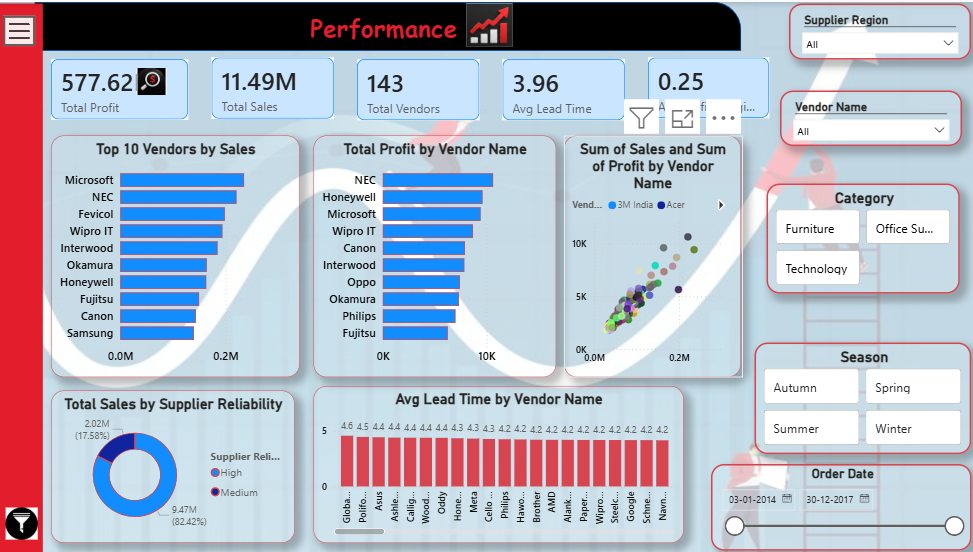

Layout of this report page (visuals, bound fields, positions):
{"tool":"powerbi","page":{"name":"Performance","canvas":[1280,720],"ordinal":1},"visuals":[{"type":"shape","title":"Flyoutshape","box":[2,2,230.7,718],"z":0,"group":"g1"},{"type":"clusteredBarChart","title":"Top 10 Vendors by Sales","fields":{"Category":["vendor_superstore.Vendor Name"],"Y":["vendor_superstore.Total Sales"]},"box":[66.7,174.5,325.6,315.8],"z":0},{"type":"clusteredBarChart","fields":{"Category":["vendor_superstore.Vendor Name"],"Y":["vendor_superstore.Total Profit"]},"box":[409.7,174.9,317.4,315.7],"z":1000},{"type":"slicer","title":"Supplier Region","fields":{"Values":["vendor_superstore.Supplier Region"]},"box":[1031.8,1.9,238.1,73],"z":2000},{"type":"actionButton","title":"Analysis","box":[63.5,290.2,153.8,58.3],"z":2000,"group":"g1"},{"type":"actionButton","title":"Overview","box":[59.5,77.7,168.4,55.1],"z":2500,"group":"g1"},{"type":"actionButton","title":"Vendor Performance","box":[53.4,163.5,176.5,74.5],"z":2750,"group":"g1"},{"type":"actionButton","title":"Closebutton","box":[64,16,54,46],"z":3000,"group":"g1"},{"type":"advancedSlicerVisual","fields":{"Values":["vendor_superstore.Season"]},"box":[986.5,445,283.5,146],"z":3000},{"type":"shape","box":[46,0,924,64],"z":4000},{"type":"cardVisual","fields":{"Data":["vendor_superstore.Total Profit"]},"box":[66.4,72.9,181.4,82.6],"z":4500},{"type":"image","box":[200,90.2,43.1,39.2],"z":4750},{"type":"actionButton","title":"Vendor Details","box":[58.7,380.9,174.9,61.5],"z":5000,"group":"g1"},{"type":"slicer","title":"Order Date","fields":{"Values":["vendor_superstore.Order Date"]},"box":[929.3,603.4,340.8,113.6],"z":5000},{"type":"image","box":[161.9,299.6,40.5,35.6],"z":5250,"group":"g1"},{"type":"image","box":[176.1,395.1,43.7,35.6],"z":5312,"group":"g1"},{"type":"image","box":[178.1,181.4,40.5,35.6],"z":5375,"group":"g1"},{"type":"image","box":[178.1,85.8,40.5,35.6],"z":5500,"group":"g1"},{"type":"donutChart","fields":{"Category":["vendor_superstore.Supplier Reliability"],"Y":["vendor_superstore.Total Sales"]},"box":[66.4,508.4,319,199.2],"z":6000},{"type":"group","id":"g1","title":"Sidebar","box":[2,2,231.5,718],"z":7000},{"type":"image","box":[609.9,2,60.8,56.9],"z":8000},{"type":"shape","box":[0,2,56,718],"z":9000},{"type":"actionButton","box":[4,18,42,40],"z":10000},{"type":"image","box":[0,660,56,42],"z":11000},{"type":"scatterChart","fields":{"X":["Sum(vendor_superstore.Sales)"],"Y":["Sum(vendor_superstore.Profit)"],"Series":["vendor_superstore.Vendor Name"]},"box":[738.4,174.9,231.5,315.7],"z":12000},{"type":"columnChart","fields":{"Y":["vendor_superstore.Avg Lead Time"],"Category":["vendor_superstore.Vendor Name"]},"box":[409.7,502,484.1,205.6],"z":13000},{"type":"advancedSlicerVisual","fields":{"Values":["vendor_superstore.Category"]},"box":[1002.3,238,252.6,144.1],"z":14000},{"type":"slicer","title":"Supplier Region","fields":{"Values":["vendor_superstore.Vendor Name"]},"box":[1020.1,115,238,72.9],"z":15000},{"type":"cardVisual","fields":{"Data":["vendor_superstore.Total Sales"]},"box":[258.2,75,176,79.3],"z":18000},{"type":"cardVisual","fields":{"Data":["vendor_superstore.Total Vendors"]},"box":[449.4,74.7,174.9,77.7],"z":19000},{"type":"cardVisual","fields":{"Data":["vendor_superstore.Avg Lead Time"]},"box":[639.6,73.2,174.9,81],"z":20000},{"type":"cardVisual","fields":{"Data":["vendor_superstore.Avg Profit Margin %"]},"box":[824.2,74.5,176.5,79.3],"z":21000},{"type":"image","box":[378.9,90.7,43.7,45.3],"z":22000},{"type":"image","box":[576.4,89.1,47,40.5],"z":23000},{"type":"image","box":[767.5,84.2,47,45.3],"z":24000},{"type":"image","box":[952.1,85.8,47,40.5],"z":25000}]}

Visuals, with their boxes in screenshot pixels (x1, y1, x2, y2), scaled from the page's 1280x720 canvas onto the 973x552 screenshot:
"Flyoutshape" shape: {"left": 2, "top": 2, "right": 177, "bottom": 551}
"Top 10 Vendors by Sales" clusteredBarChart: {"left": 51, "top": 134, "right": 298, "bottom": 376}
clusteredBarChart - vendor_superstore.Vendor Name x vendor_superstore.Total Profit: {"left": 311, "top": 134, "right": 553, "bottom": 376}
"Supplier Region" slicer: {"left": 784, "top": 1, "right": 965, "bottom": 57}
"Analysis" actionButton: {"left": 48, "top": 222, "right": 165, "bottom": 267}
"Overview" actionButton: {"left": 45, "top": 60, "right": 173, "bottom": 102}
"Vendor Performance" actionButton: {"left": 41, "top": 125, "right": 175, "bottom": 182}
"Closebutton" actionButton: {"left": 49, "top": 12, "right": 90, "bottom": 48}
advancedSlicerVisual - vendor_superstore.Season: {"left": 750, "top": 341, "right": 965, "bottom": 453}
shape: {"left": 35, "top": 0, "right": 737, "bottom": 49}
cardVisual - vendor_superstore.Total Profit: {"left": 50, "top": 56, "right": 188, "bottom": 119}
image: {"left": 152, "top": 69, "right": 185, "bottom": 99}
"Vendor Details" actionButton: {"left": 45, "top": 292, "right": 178, "bottom": 339}
"Order Date" slicer: {"left": 706, "top": 463, "right": 965, "bottom": 550}
image: {"left": 123, "top": 230, "right": 154, "bottom": 257}
image: {"left": 134, "top": 303, "right": 167, "bottom": 330}
image: {"left": 135, "top": 139, "right": 166, "bottom": 166}
image: {"left": 135, "top": 66, "right": 166, "bottom": 93}
donutChart - vendor_superstore.Supplier Reliability x vendor_superstore.Total Sales: {"left": 50, "top": 390, "right": 293, "bottom": 542}
"Sidebar" group: {"left": 2, "top": 2, "right": 177, "bottom": 551}
image: {"left": 464, "top": 2, "right": 510, "bottom": 45}
shape: {"left": 0, "top": 2, "right": 43, "bottom": 551}
actionButton: {"left": 3, "top": 14, "right": 35, "bottom": 44}
image: {"left": 0, "top": 506, "right": 43, "bottom": 538}
scatterChart - Sum(vendor_superstore.Sales) x Sum(vendor_superstore.Profit): {"left": 561, "top": 134, "right": 737, "bottom": 376}
columnChart - vendor_superstore.Avg Lead Time x vendor_superstore.Vendor Name: {"left": 311, "top": 385, "right": 679, "bottom": 542}
advancedSlicerVisual - vendor_superstore.Category: {"left": 762, "top": 182, "right": 954, "bottom": 293}
"Supplier Region" slicer: {"left": 775, "top": 88, "right": 956, "bottom": 144}
cardVisual - vendor_superstore.Total Sales: {"left": 196, "top": 58, "right": 330, "bottom": 118}
cardVisual - vendor_superstore.Total Vendors: {"left": 342, "top": 57, "right": 475, "bottom": 117}
cardVisual - vendor_superstore.Avg Lead Time: {"left": 486, "top": 56, "right": 619, "bottom": 118}
cardVisual - vendor_superstore.Avg Profit Margin %: {"left": 627, "top": 57, "right": 761, "bottom": 118}
image: {"left": 288, "top": 70, "right": 321, "bottom": 104}
image: {"left": 438, "top": 68, "right": 474, "bottom": 99}
image: {"left": 583, "top": 65, "right": 619, "bottom": 99}
image: {"left": 724, "top": 66, "right": 759, "bottom": 97}
